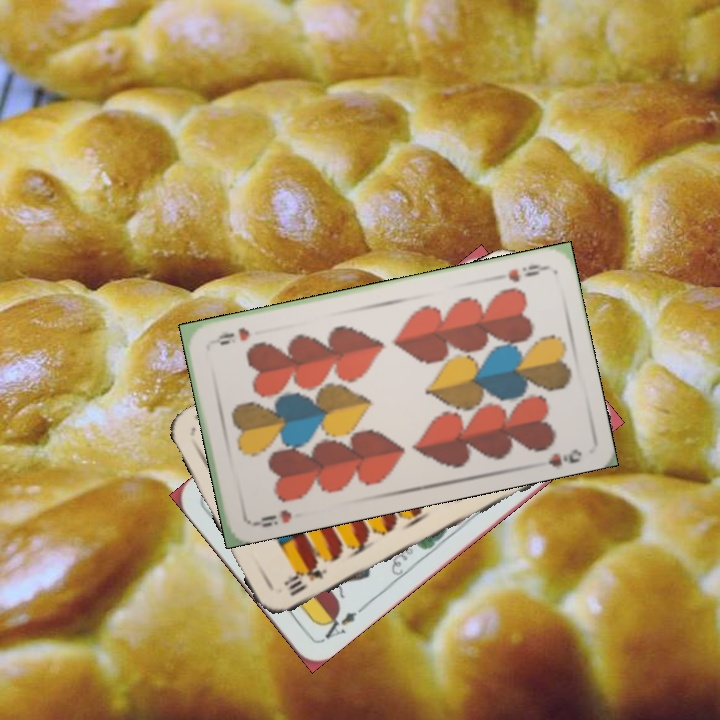E10: (279, 558, 330, 599)
EA: (317, 601, 368, 644)
H9: (246, 505, 295, 530), (504, 260, 549, 285)
